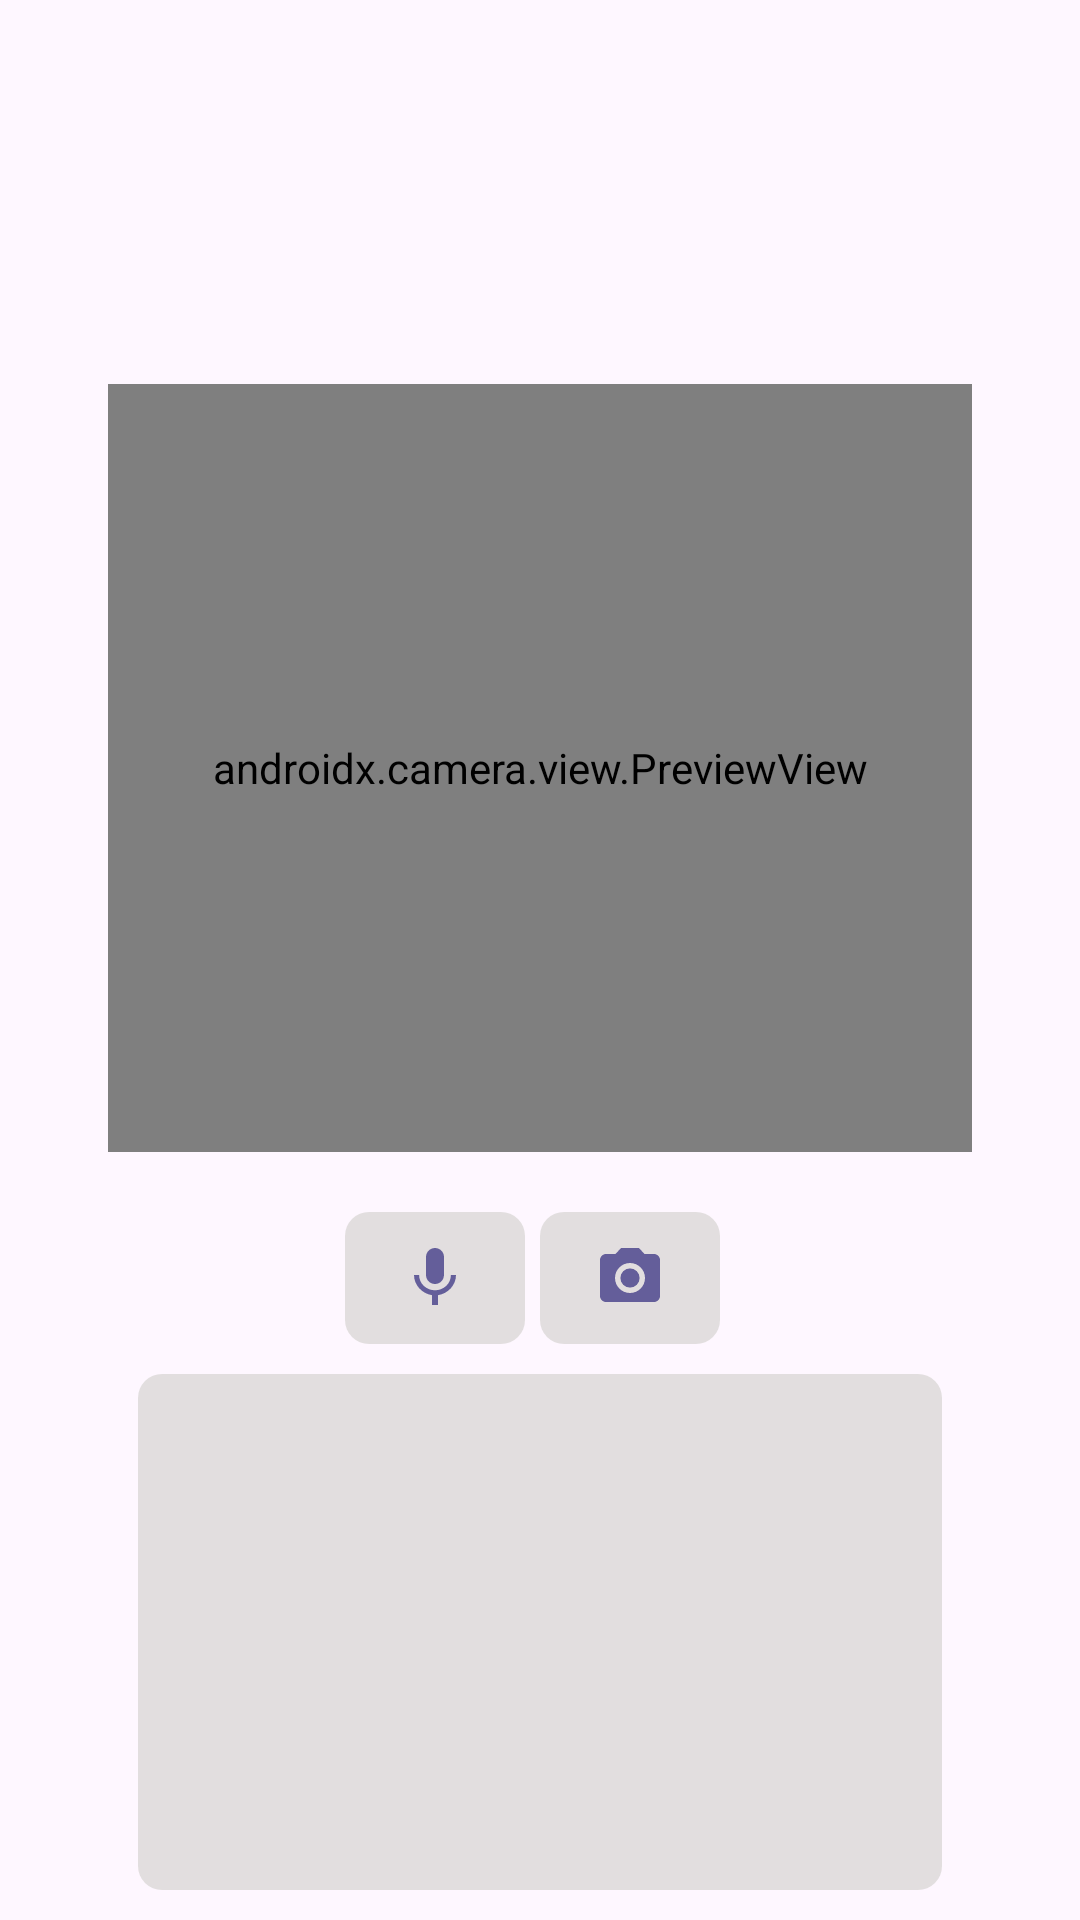

Icon bounding boxes for this 1080px x 1920px phone screenshot, format (x1, y1, x2, y2):
mic: (345, 1212, 525, 1344)
